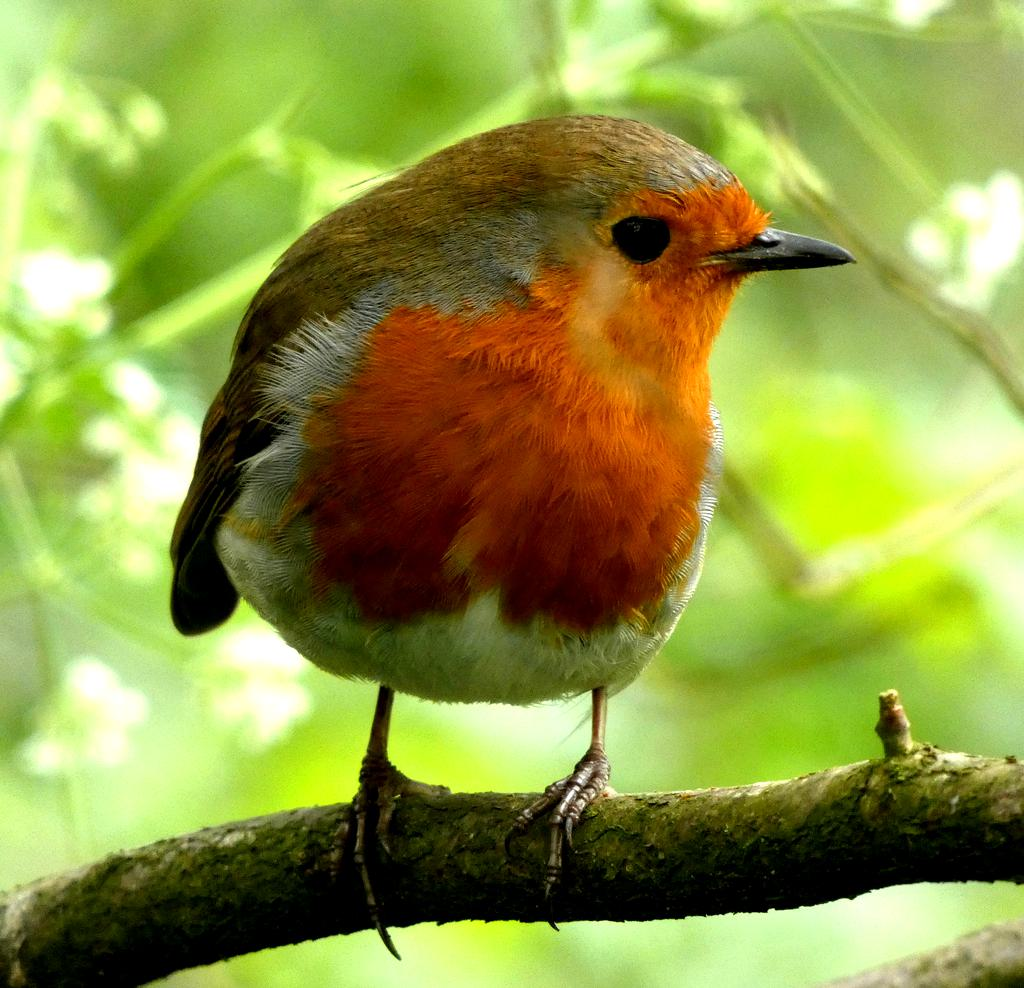ErithacusRubecula: (168, 113, 856, 961)
